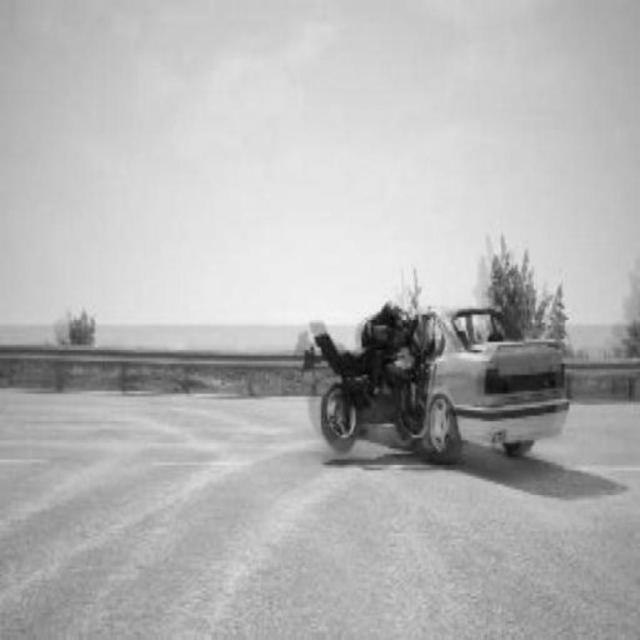accident: (297, 303, 570, 465)
